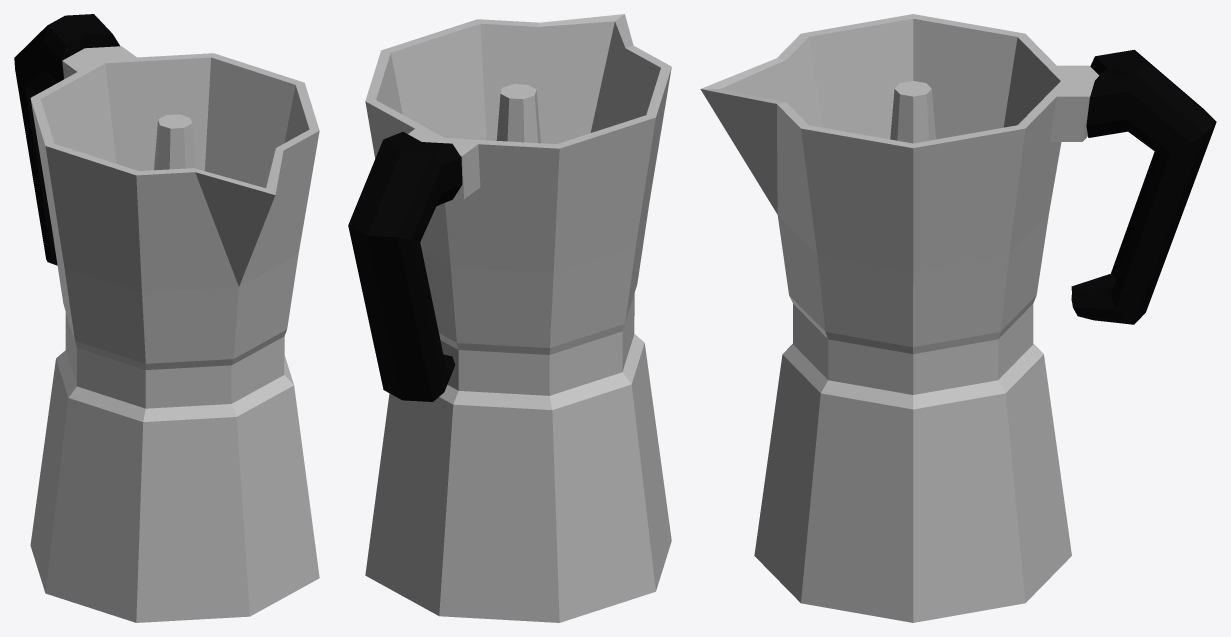
File: Caffettiera.fbx
The picture shows the model from 3 angles, left to right: view 1: azimuth 30°, elevation 25°; view 2: azimuth 150°, elevation 25°; view 3: azimuth 270°, elevation 25°; orthographic projection. The views are drawn at different scales.
Parts seen in each view (by area): view 1: Moka; view 2: Moka; view 3: Moka.
Boxes of the visible parts, box(x1,y1,x2,y2) form: Moka: box(14, 14, 319, 622); Moka: box(348, 14, 671, 622); Moka: box(700, 14, 1216, 622).
Bounding box in the file's own units: 116 × 199 × 189.
